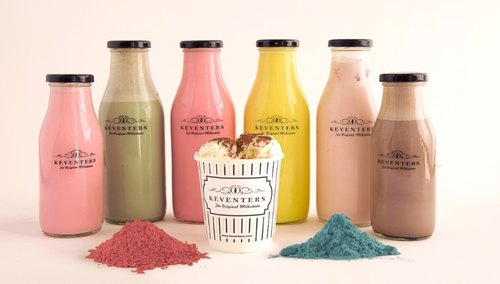glass_bottle: (95, 35, 169, 226), (169, 35, 238, 225), (314, 34, 379, 230), (244, 35, 309, 223), (37, 70, 106, 239), (371, 68, 437, 244)
